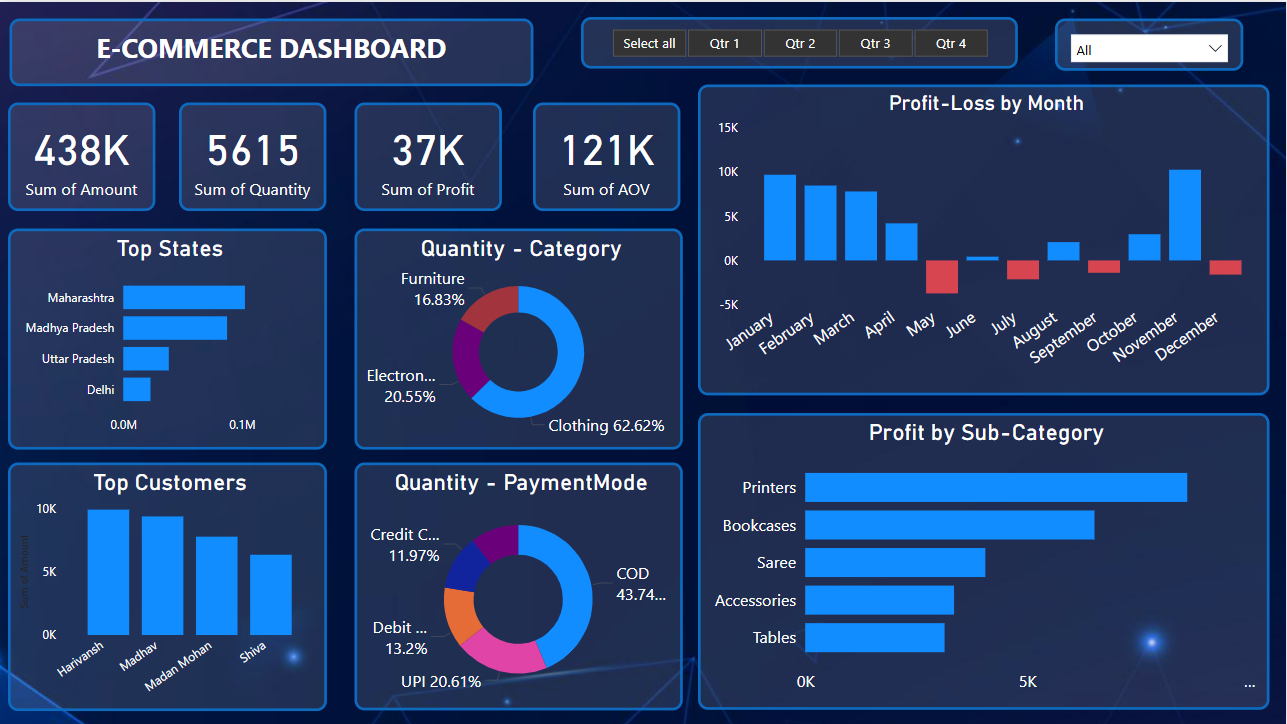

The page's visual inventory and layout, read from the dashboard file:
{"tool":"powerbi","page":{"name":"Page 1","canvas":[1280,720],"ordinal":0},"visuals":[{"type":"textbox","box":[10.1,15.8,521.3,67.5],"z":0},{"type":"columnChart","title":"Profit-Loss by Month","fields":{"Category":["Orders (1).Order Date.Variation.Date Hierarchy.Month"],"Y":["Details.Profit"]},"box":[695.3,82.8,568.8,309.4],"z":1000},{"type":"barChart","title":"Profit by Sub-Category","fields":{"Category":["Details.Sub-Category"],"Y":["Details.Profit"]},"box":[695.3,409.4,568.8,295.3],"z":2000},{"type":"donutChart","title":" Quantity - Category","fields":{"Category":["Details.Category"],"Y":["Details.Quantity"]},"box":[353.1,225,326.6,220.3],"z":3000},{"type":"donutChart","title":"Quantity - PaymentMode","fields":{"Category":["Details.PaymentMode"],"Y":["Details.Quantity"]},"box":[353.1,457.8,326.6,246.9],"z":4000},{"type":"card","fields":{"Values":["Details.AOV"]},"box":[531.2,100,146.9,107.8],"z":5000},{"type":"card","fields":{"Values":["Details.Profit"]},"box":[353.1,100,146.9,107.8],"z":6000},{"type":"card","fields":{"Values":["Details.Quantity"]},"box":[179.7,100,146.9,107.8],"z":7000},{"type":"card","fields":{"Values":["Details.Amount"]},"box":[9.4,100,146.9,107.8],"z":8000},{"type":"barChart","title":"Top States","fields":{"Category":["Orders (1).State"],"Y":["Details.Amount"]},"box":[9.4,225,317.2,220.3],"z":8001},{"type":"columnChart","title":"Top Customers","fields":{"Category":["Orders (1).CustomerName"],"Y":["Details.Amount"]},"box":[9,458,317,247],"z":8002},{"type":"slicer","fields":{"Values":["Orders (1).Order Date.Variation.Date Hierarchy.Quarter"]},"box":[579.7,15.6,434.4,51.6],"z":8003},{"type":"slicer","fields":{"Values":["Orders (1).State"]},"box":[1050,15.9,187.6,51.8],"z":8004}]}

Visuals, with their boxes in screenshot pixels (x1, y1, x2, y2), scaled from the page's 1280x720 canvas onto the 1287x724 screenshot:
textbox: <bbox>10, 16, 534, 84</bbox>
"Profit-Loss by Month" columnChart: <bbox>699, 83, 1271, 394</bbox>
"Profit by Sub-Category" barChart: <bbox>699, 412, 1271, 709</bbox>
" Quantity - Category" donutChart: <bbox>355, 226, 683, 448</bbox>
"Quantity - PaymentMode" donutChart: <bbox>355, 460, 683, 709</bbox>
card - Details.AOV: <bbox>534, 101, 682, 209</bbox>
card - Details.Profit: <bbox>355, 101, 503, 209</bbox>
card - Details.Quantity: <bbox>181, 101, 328, 209</bbox>
card - Details.Amount: <bbox>9, 101, 157, 209</bbox>
"Top States" barChart: <bbox>9, 226, 328, 448</bbox>
"Top Customers" columnChart: <bbox>9, 461, 328, 709</bbox>
slicer - Orders (1).Order Date.Variation.Date Hierarchy.Quarter: <bbox>583, 16, 1020, 68</bbox>
slicer - Orders (1).State: <bbox>1056, 16, 1244, 68</bbox>
